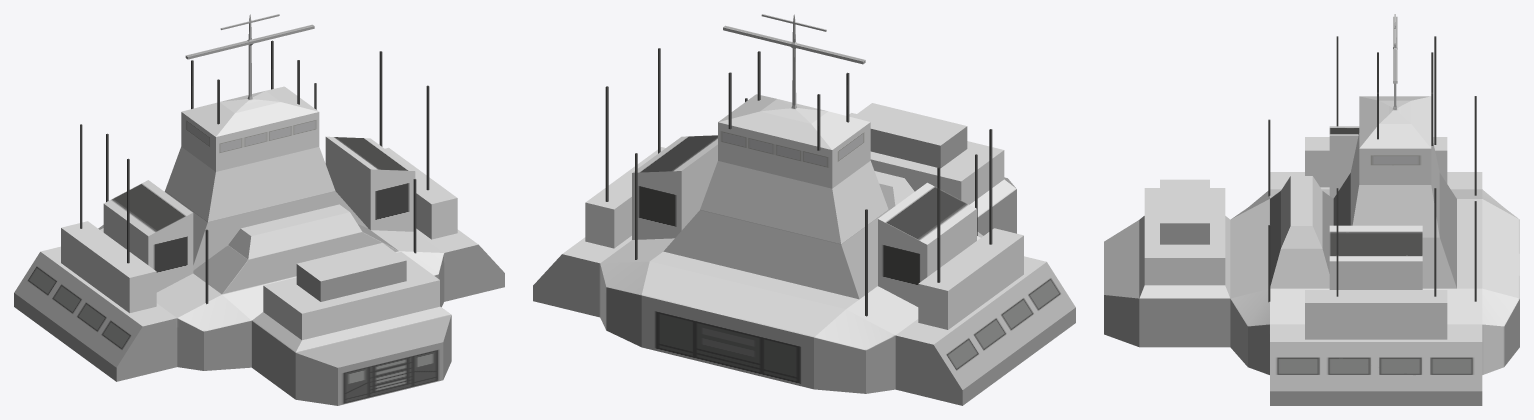
Rendered from MilitaryBase.fbx.
The picture shows the model from 3 angles, left to right: view 1: azimuth 30°, elevation 25°; view 2: azimuth 150°, elevation 25°; view 3: azimuth 270°, elevation 25°; orthographic projection. The views are drawn at different scales.
Parts seen in each view (by area): view 1: MilitaryBase_Body; view 2: MilitaryBase_Body; view 3: MilitaryBase_Body.
Part boxes in pixels (left/top/right/bottom): MilitaryBase_Body: left=14, top=14, right=504, bottom=405; MilitaryBase_Body: left=533, top=14, right=1075, bottom=405; MilitaryBase_Body: left=1104, top=14, right=1519, bottom=405.
Bounding box in the file's own units: 109 × 74.36 × 97.84.
